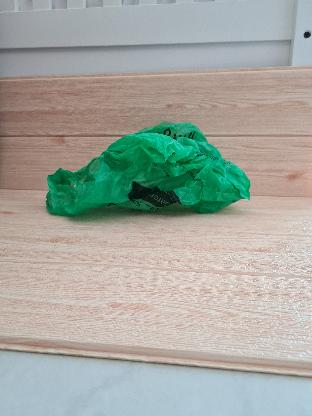Plastic Bag: (42, 121, 254, 213)
